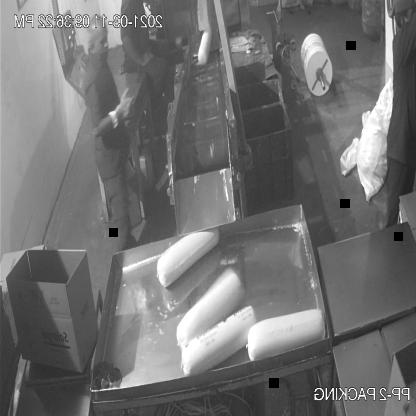glove: (105, 84, 142, 134)
no_glove: (114, 28, 154, 71)
